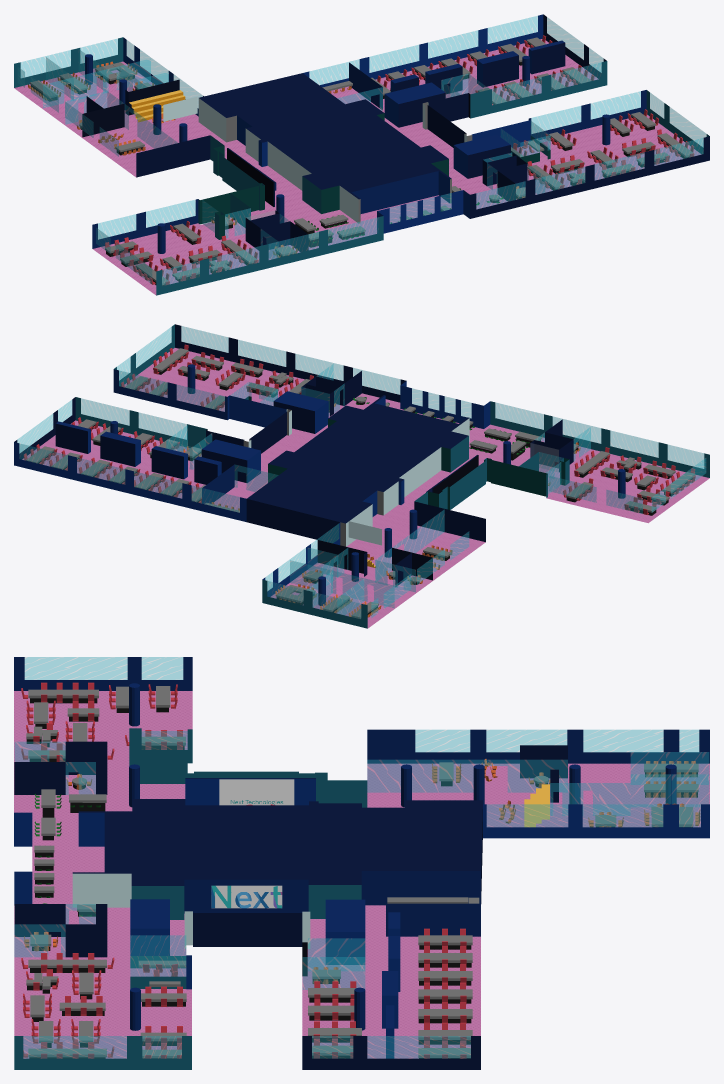
File: manoteras.obj
The picture shows the model from 3 angles, top to bottom: view 1: azimuth 30°, elevation 25°; view 2: azimuth 150°, elevation 25°; view 3: azimuth 270°, elevation 25°; orthographic projection. The views are drawn at different scales.
Visible parts, largest first — view 1: paredes_Plane; view 2: paredes_Plane; view 3: paredes_Plane.
Part boxes in pixels (<box>): paredes_Plane: <box>14,14,709,295</box>; paredes_Plane: <box>14,324,709,628</box>; paredes_Plane: <box>14,657,709,1069</box>.
Bounding box in the file's own units: 6.51 × 0.3116 × 5.05.
Materials: 20 (4 with a texture image).
